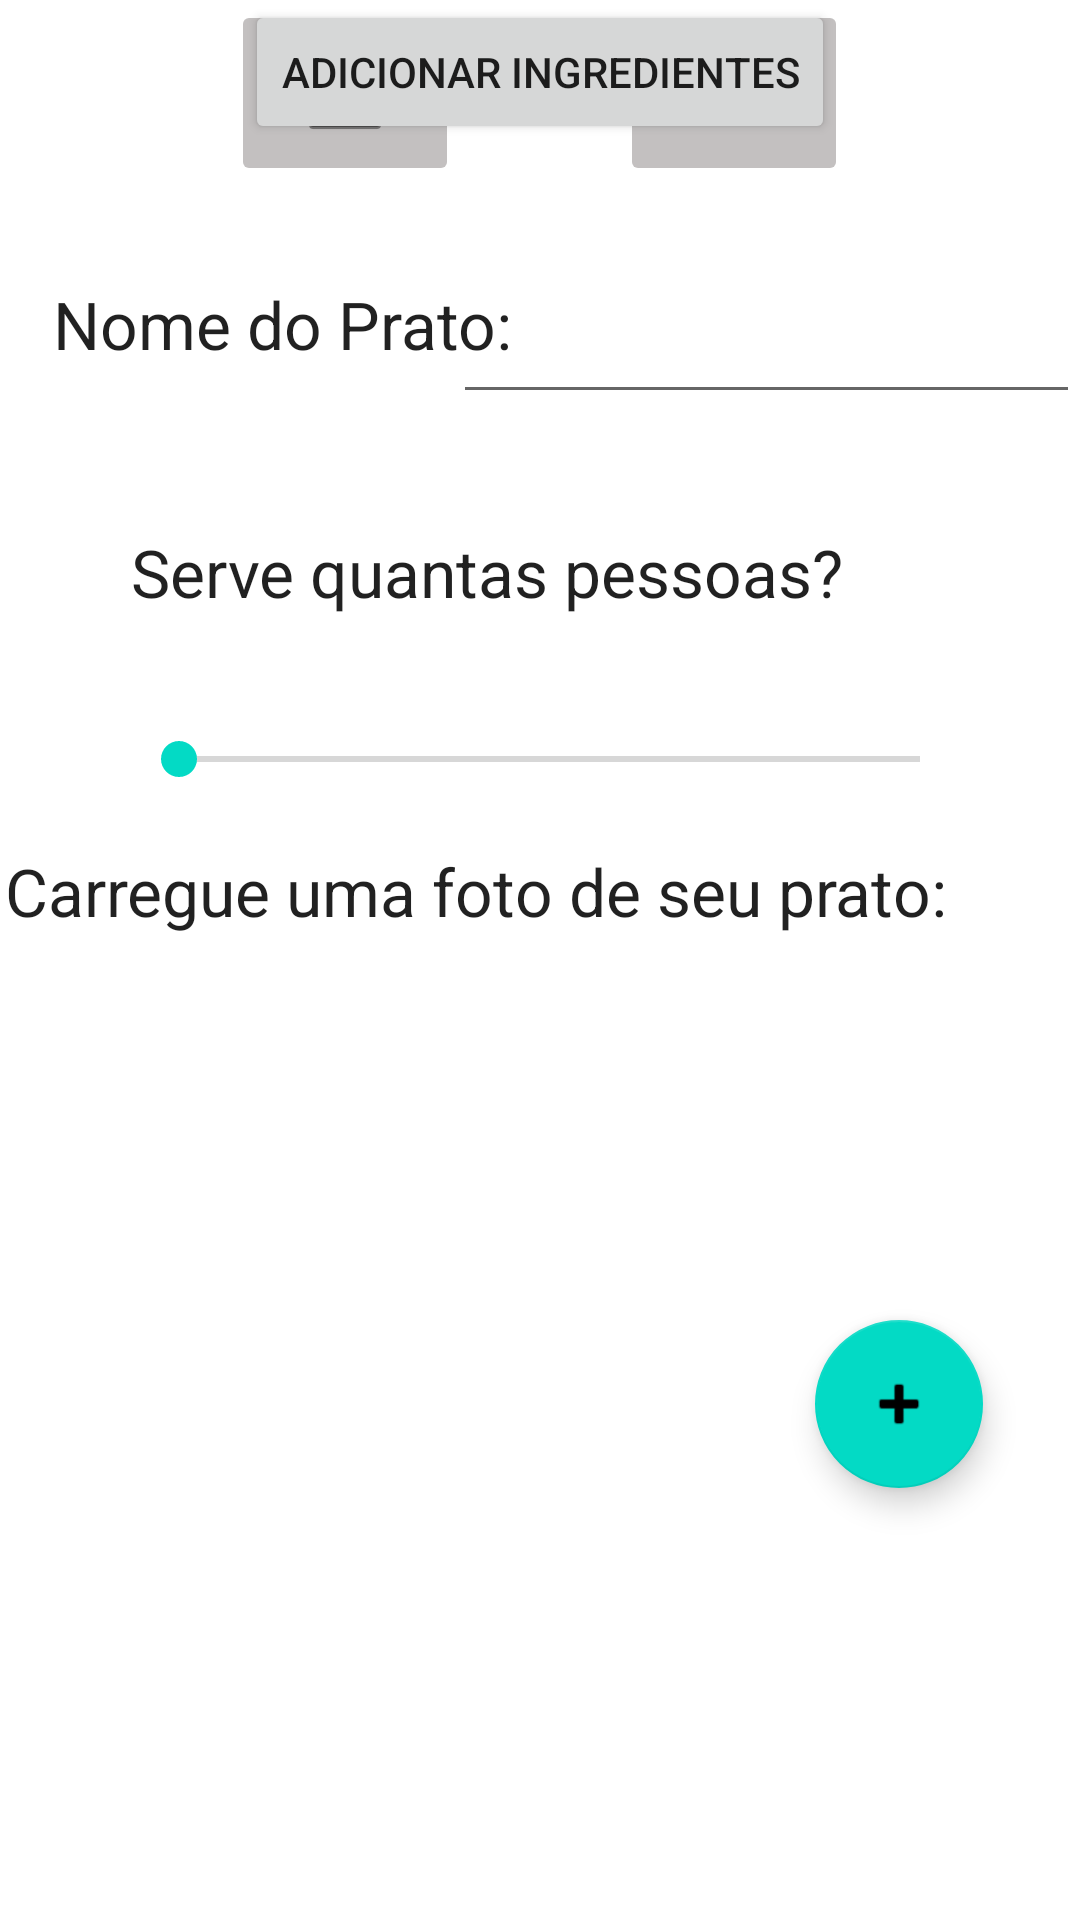

Screen size 1080x1920. Icon name, then its center in pixels as [x,y]:
add: [899,1404]
